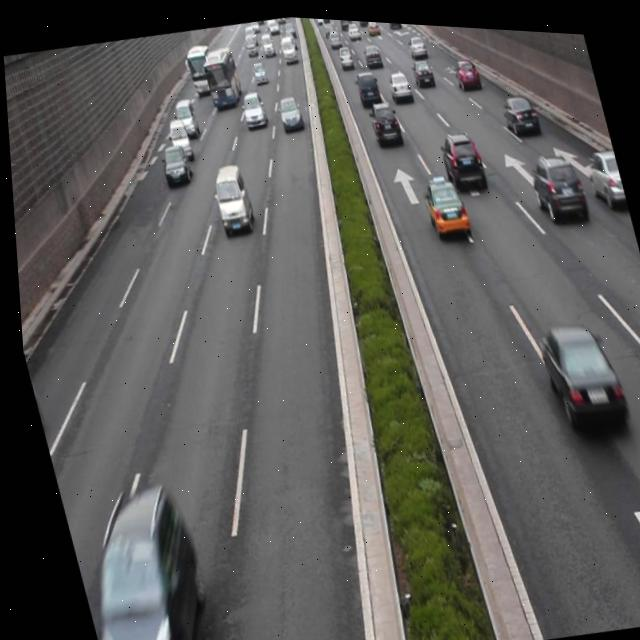car: (65, 484, 210, 640), (528, 311, 627, 433), (522, 142, 586, 223), (416, 163, 469, 237), (433, 123, 486, 192), (578, 140, 625, 201), (364, 93, 402, 146), (496, 85, 538, 132), (156, 141, 193, 186)
truck: (205, 160, 254, 234), (164, 115, 193, 161)
